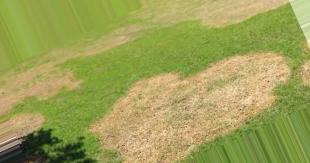patch: (146, 95, 192, 150), (115, 109, 151, 144), (206, 92, 247, 118), (215, 2, 243, 21), (149, 73, 175, 93), (255, 73, 276, 89), (5, 121, 26, 134), (26, 84, 51, 94), (190, 76, 202, 90), (130, 149, 141, 163)
